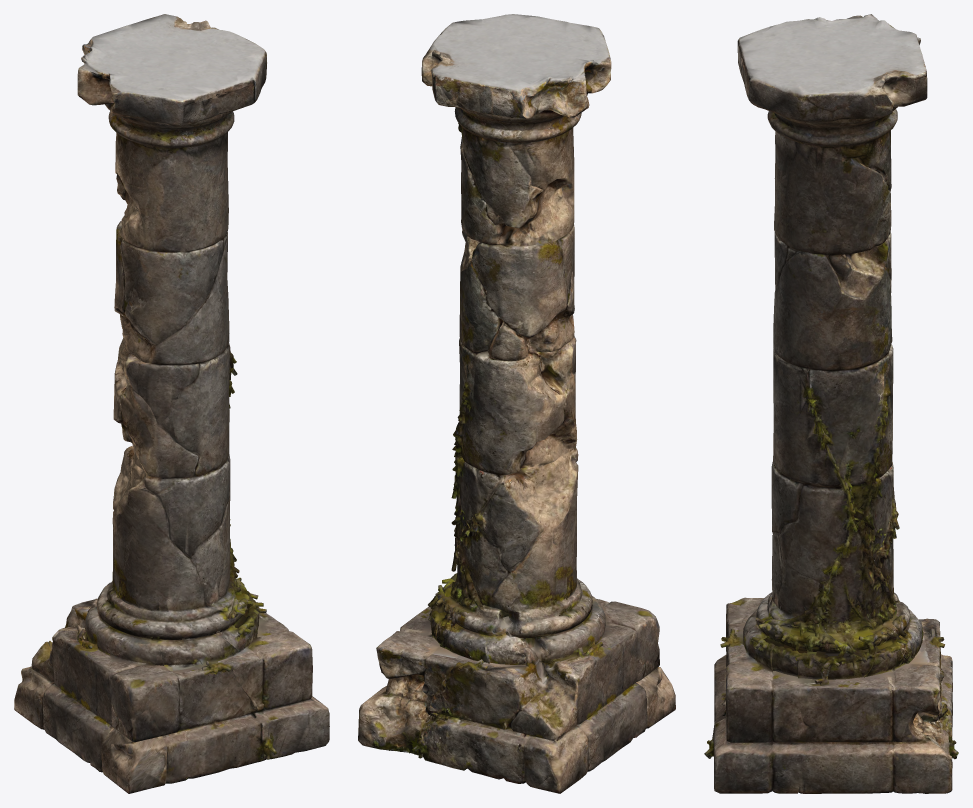
The model's file is Dungeon_Pillar.glb.
The picture shows the model from 3 angles, left to right: view 1: azimuth 30°, elevation 25°; view 2: azimuth 150°, elevation 25°; view 3: azimuth 270°, elevation 25°; orthographic projection. The views are drawn at different scales.
Visible parts, largest first — view 1: YVO3D.obj; view 2: YVO3D.obj; view 3: YVO3D.obj.
Part boxes in pixels (x1=…): YVO3D.obj: x1=14, y1=14, x2=329, y2=793; YVO3D.obj: x1=358, y1=14, x2=675, y2=793; YVO3D.obj: x1=704, y1=14, x2=958, y2=793.
Size of the model in its own units: 0.3055 by 0.9797 by 0.3245.
Materials: 1 (1 with a texture image).
